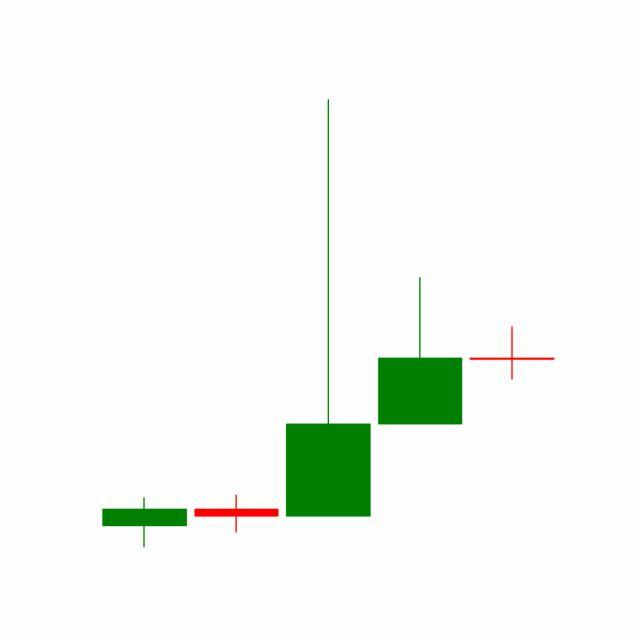Spinning Top: (466, 326, 559, 381)
